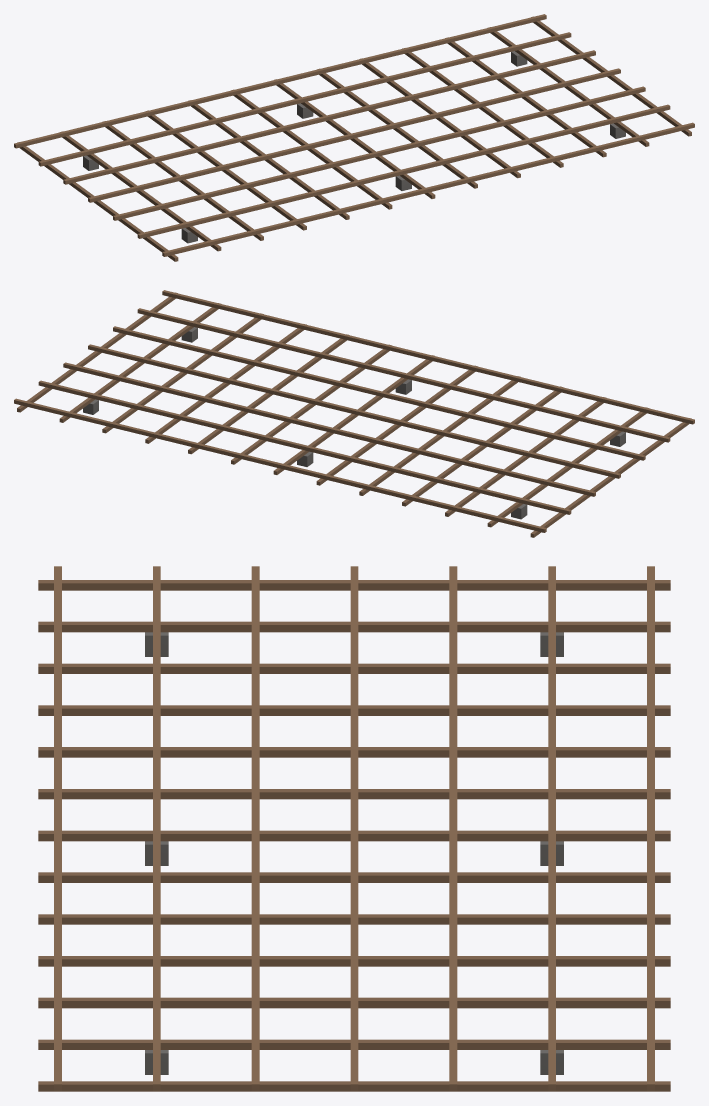
Rendered from rebarmat.glb.
3 views of the same model, one above another, from view 1: azimuth 30°, elevation 25°; view 2: azimuth 150°, elevation 25°; view 3: azimuth 270°, elevation 25° (orthographic). The views are drawn at different scales.
Parts seen in each view (by area): view 1: rebarmat; view 2: rebarmat; view 3: rebarmat.
Part boxes in pixels (x1,y1,x2,y2): rebarmat: (14,14,694,261); rebarmat: (14,290,694,537); rebarmat: (38,566,670,1091).
Size of the model in its own units: 6.2 by 0.2 by 3.2.
